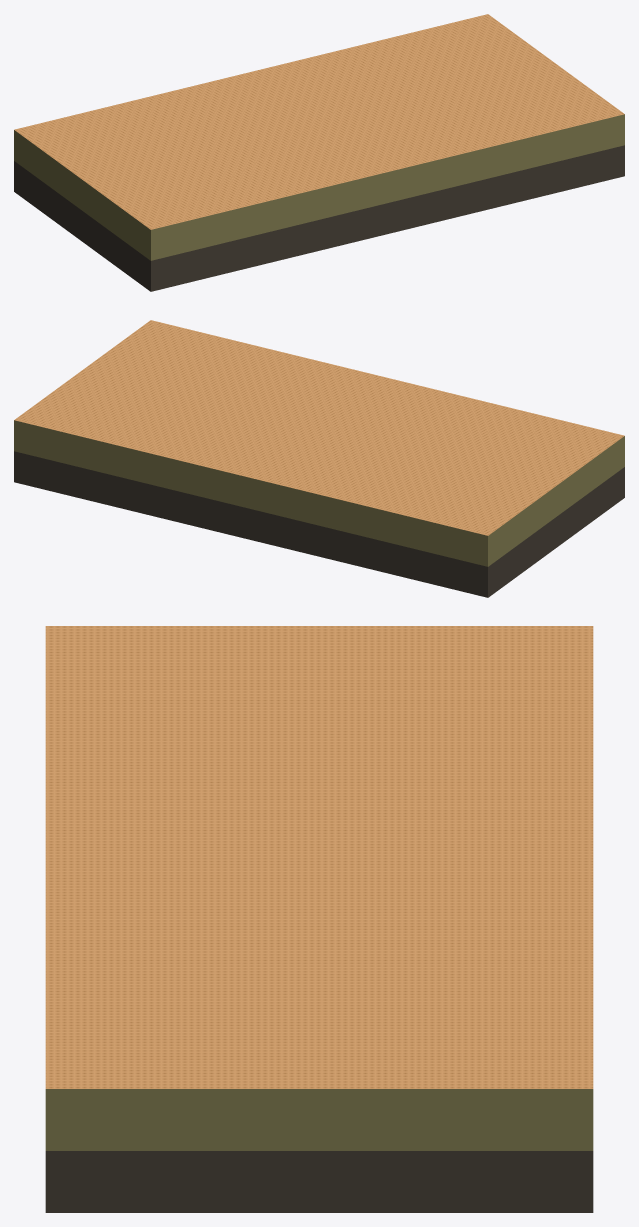
File: tile2_1 full.fbx
3 views of the same model, one above another, from view 1: azimuth 30°, elevation 25°; view 2: azimuth 150°, elevation 25°; view 3: azimuth 270°, elevation 25° (orthographic). The views are drawn at different scales.
Parts seen in each view (by area): view 1: Cube.003; view 2: Cube.003; view 3: Cube.003.
Part boxes in pixels (x1,y1,x2,y2): Cube.003: (14,14,624,291); Cube.003: (14,320,624,597); Cube.003: (45,626,593,1212).
Bounding box in the file's own units: 400 × 50 × 200.
Materials: 1 (1 with a texture image).
